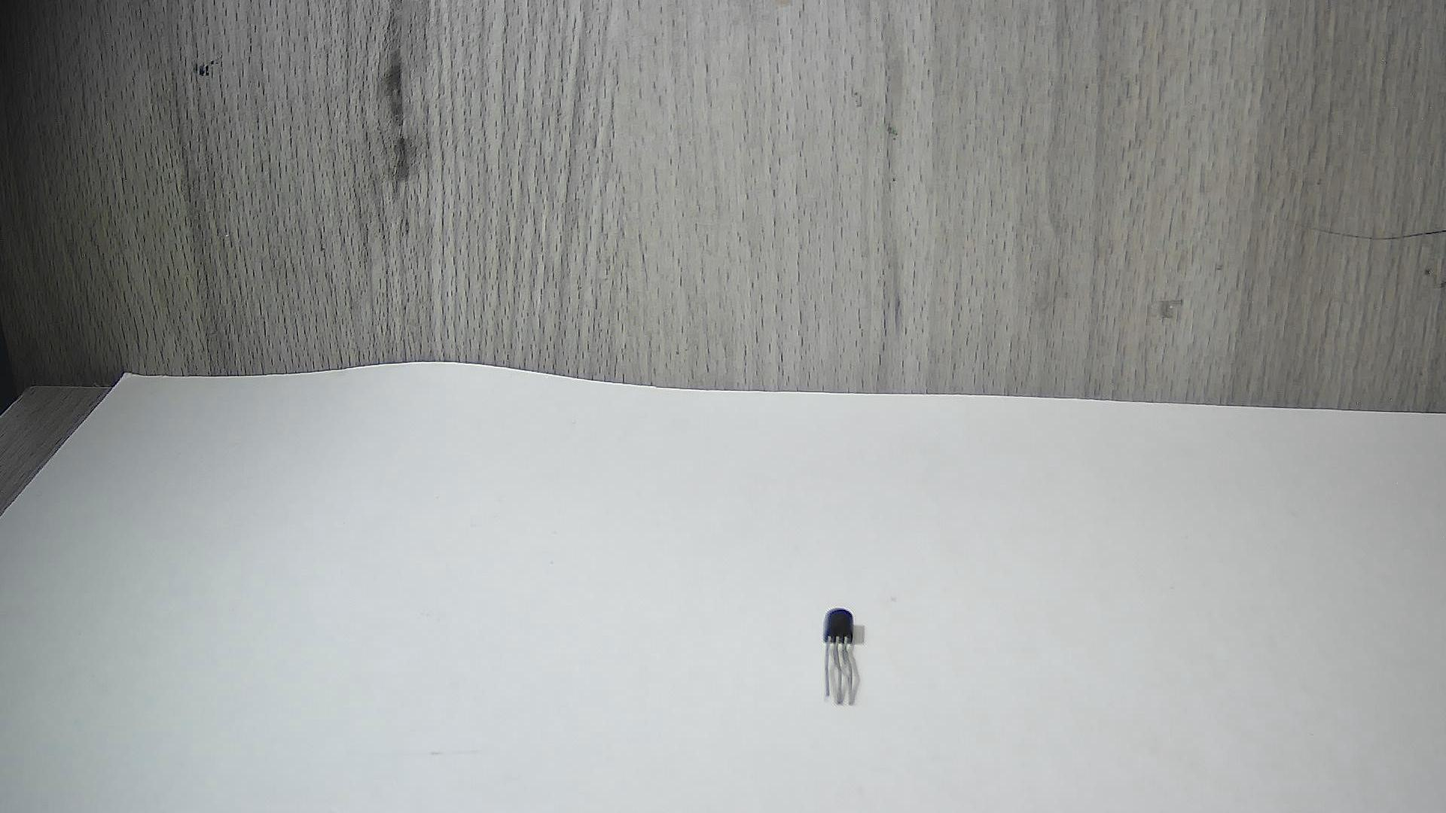Transistor: (798, 580, 881, 728)
